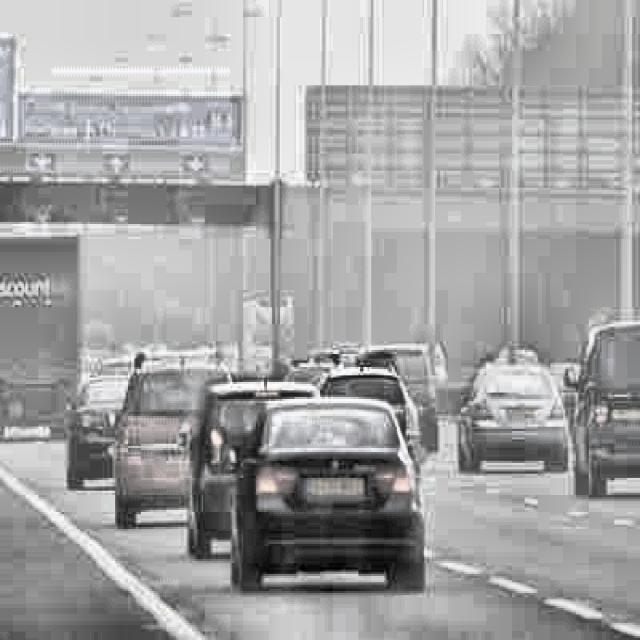license_plate: (306, 474, 368, 502), (509, 406, 542, 428)
